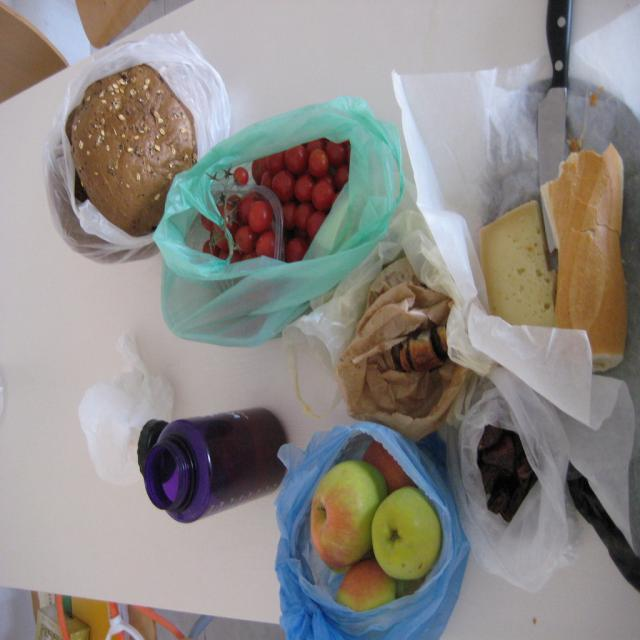Cheese: (475, 197, 557, 325)
